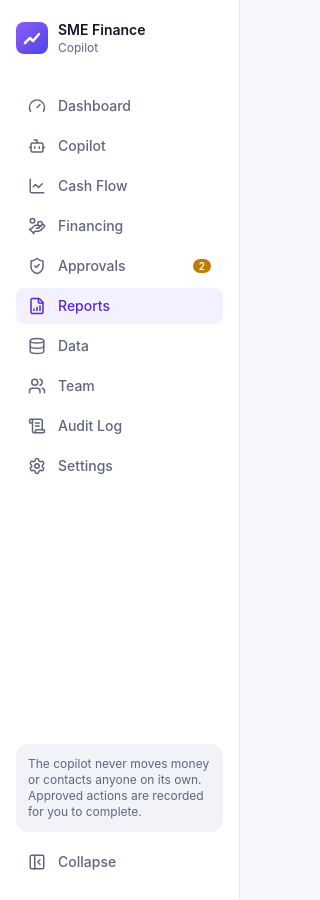
Test: sidebar › collapses to an icon rail and remembers it
Click the button with aria-label "Collapse sidebar".
click(120, 862)  # box [16, 844, 223, 880]
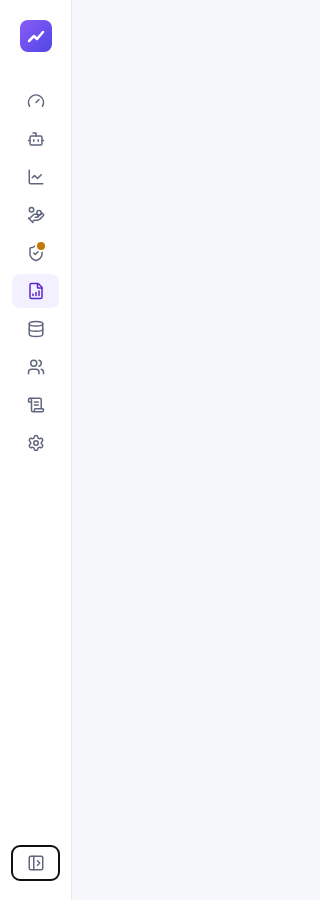
Expected: the button named "Expand sidebar" is collapsed, [12, 846, 59, 880]
